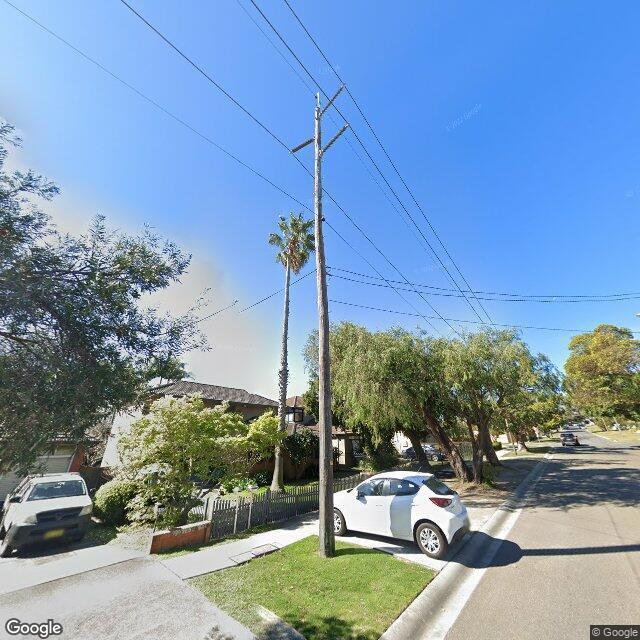HV-transmission: (292, 81, 348, 155)
timber-pole: (314, 107, 335, 558)
